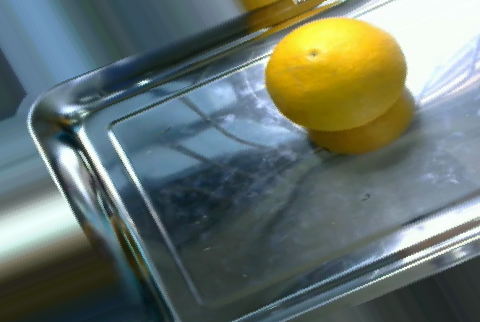Orange: (266, 15, 407, 132)
